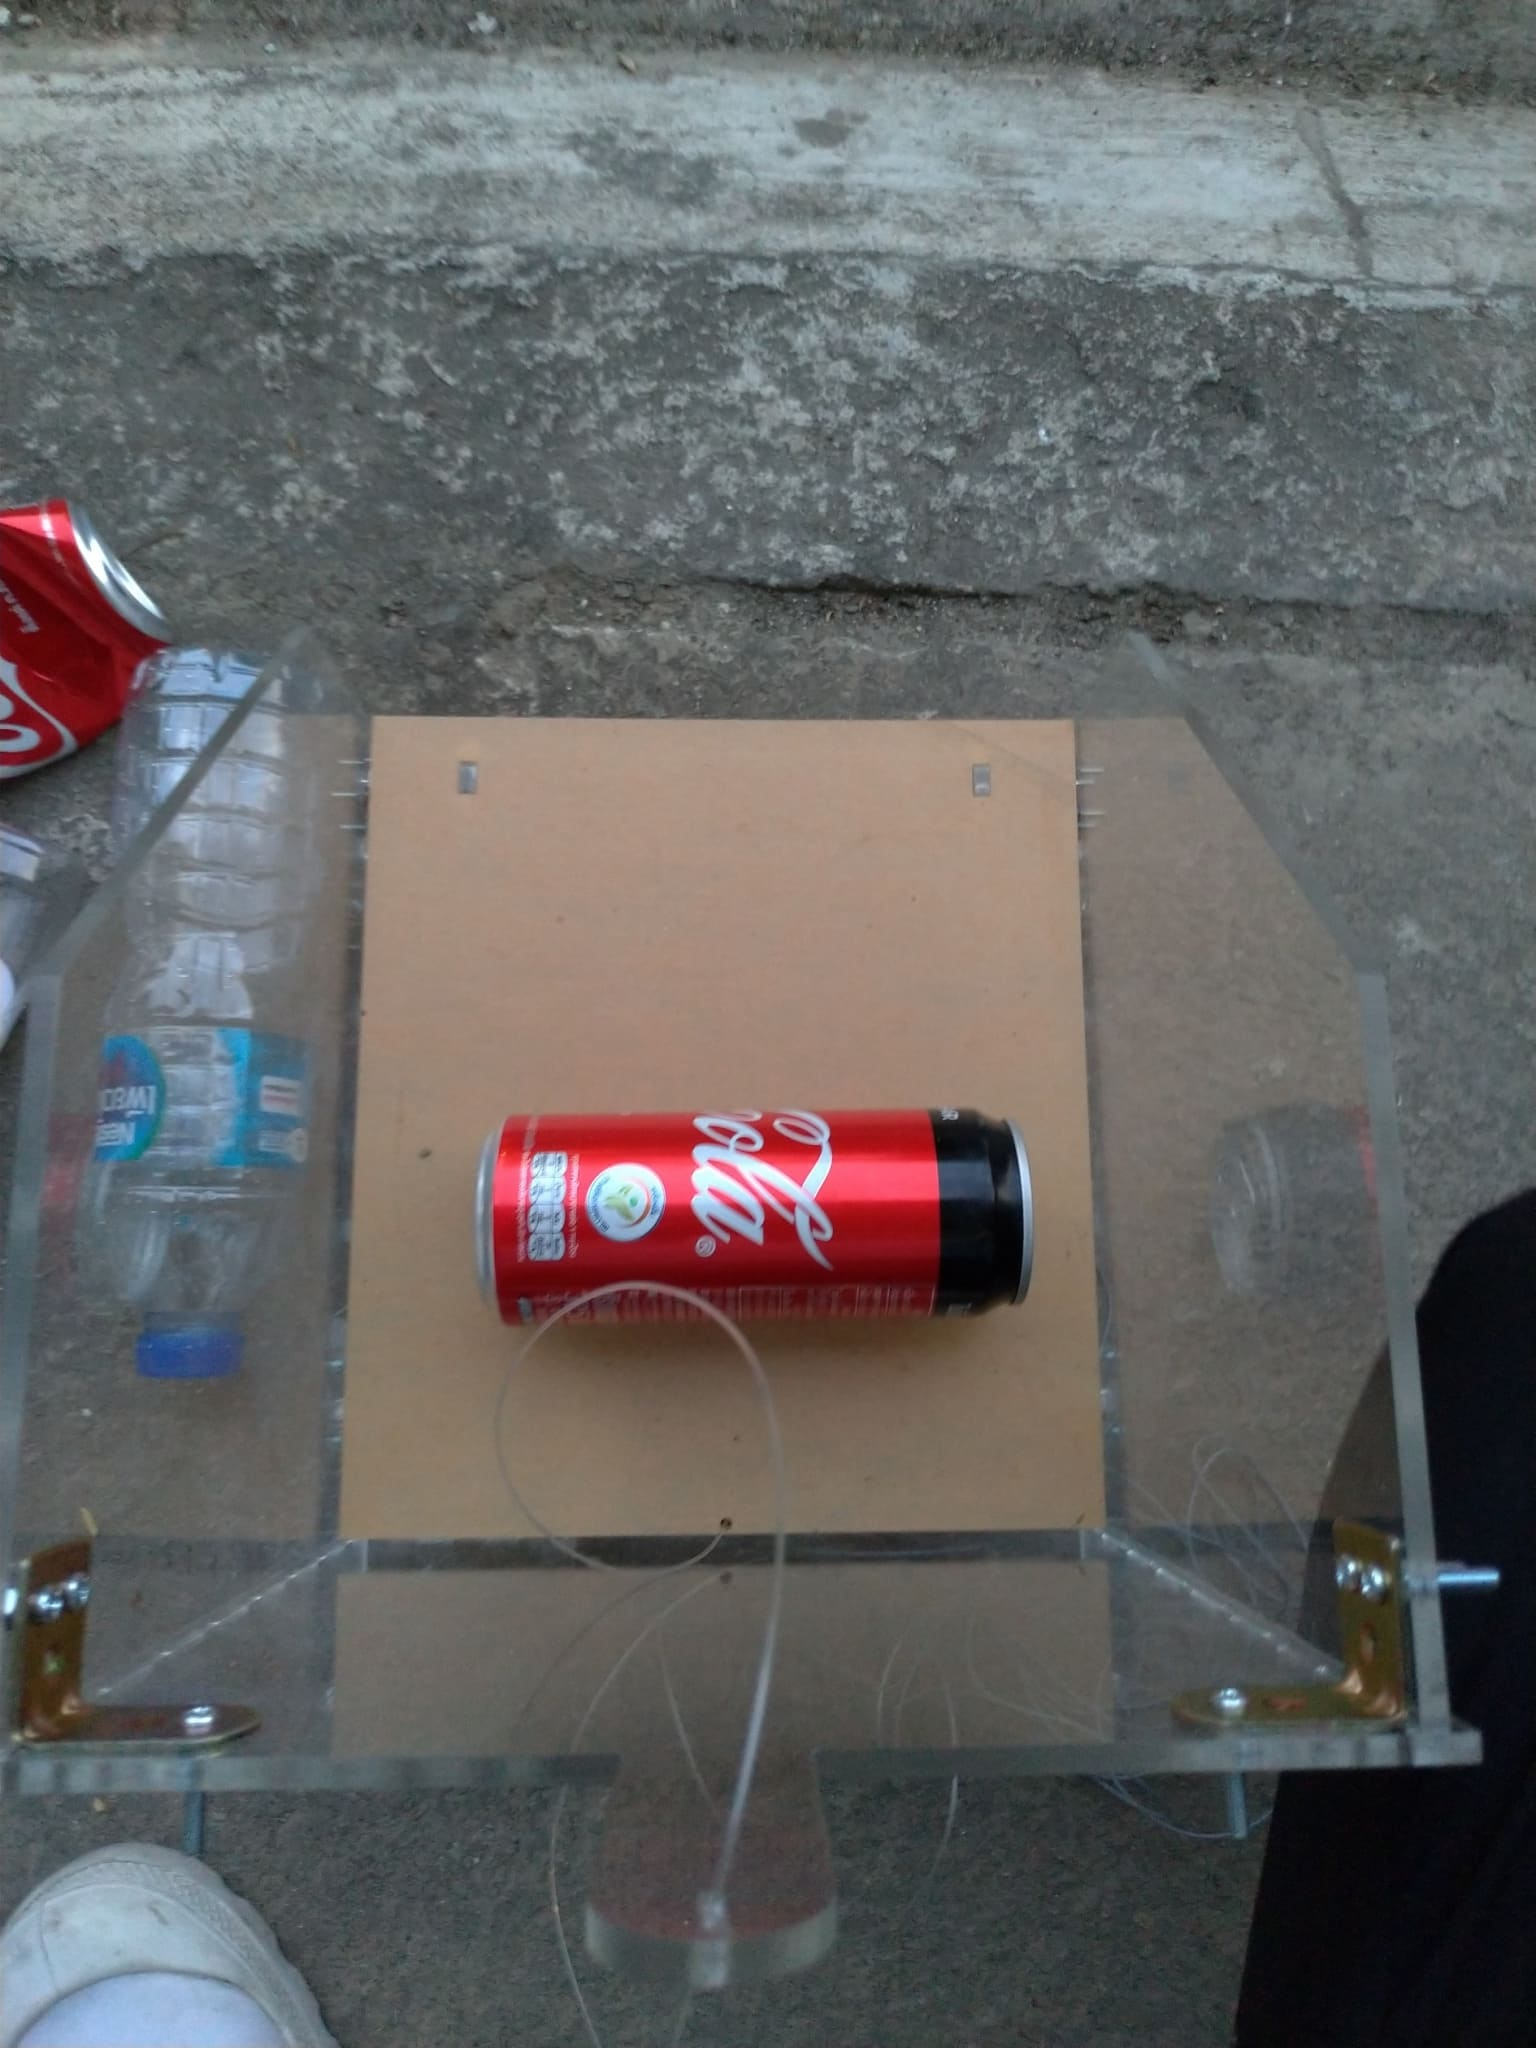AlCan: (470, 1113, 1037, 1342), (2, 510, 177, 800)
PlasticBottle: (90, 664, 315, 1384)
